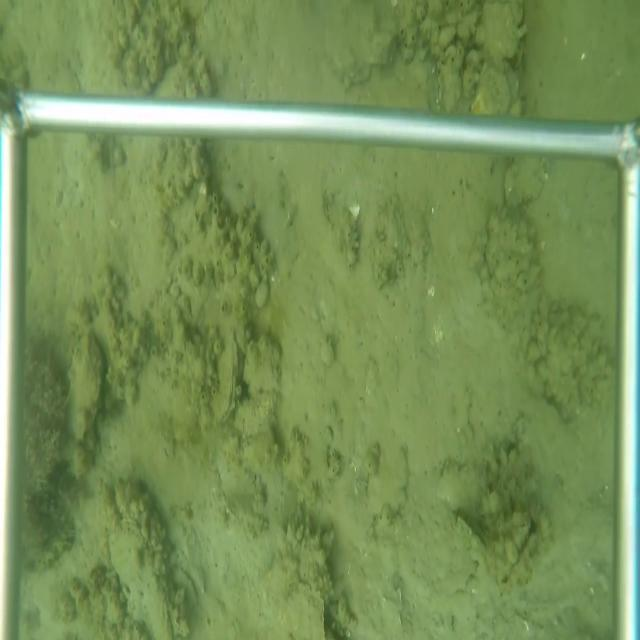Oyster-Closed: (108, 515, 177, 638), (207, 331, 241, 431), (448, 507, 492, 571)
Oyster-Indeterminate: (65, 334, 107, 455), (282, 579, 329, 639), (318, 222, 365, 277)
Oyster-Open: (495, 513, 542, 598)
